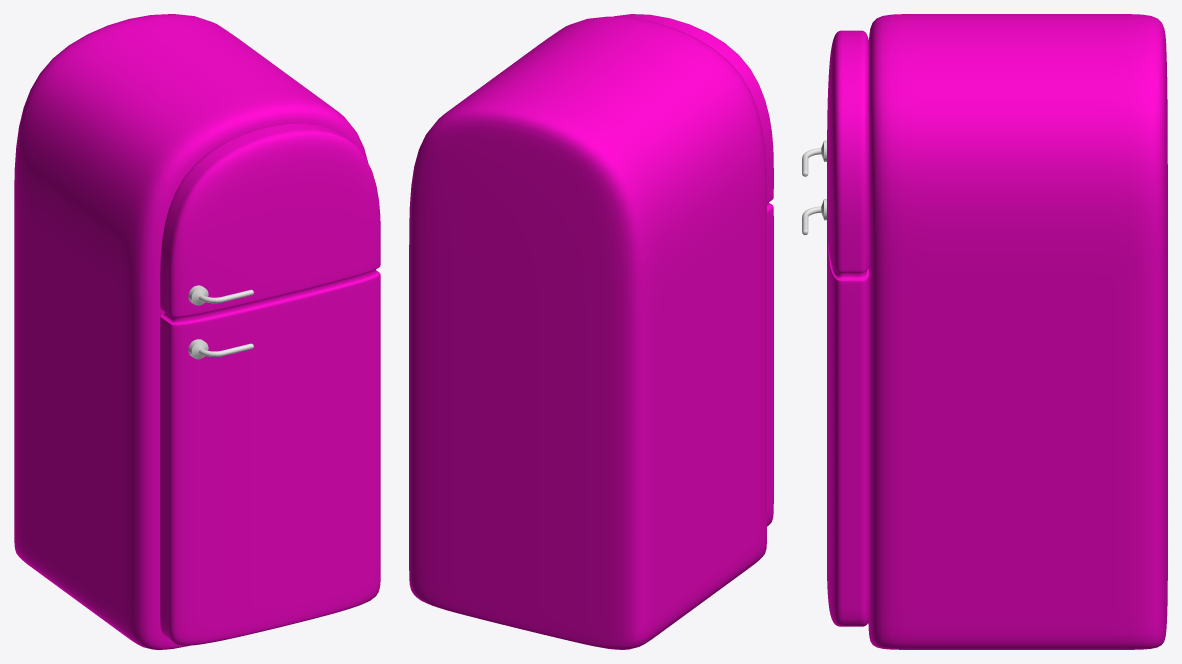
The model's file is Fridge.fbx.
3 views of the same model, side by side, from view 1: azimuth 30°, elevation 25°; view 2: azimuth 150°, elevation 25°; view 3: azimuth 270°, elevation 25° (orthographic). The views are drawn at different scales.
Parts seen in each view (by area): view 1: Cube.001, Cube, Circle.001, Circle; view 2: Cube, Cube.001; view 3: Cube, Cube.001.
Part boxes in pixels (x1=…): Cube.001: x1=160, y1=123, x2=380, y2=645; Cube: x1=14, y1=14, x2=368, y2=649; Circle.001: x1=188, y1=285, x2=253, y2=305; Circle: x1=188, y1=339, x2=253, y2=359; Cube: x1=409, y1=16, x2=766, y2=649; Cube.001: x1=613, y1=14, x2=773, y2=526; Cube: x1=868, y1=14, x2=1167, y2=649; Cube.001: x1=827, y1=30, x2=869, y2=626.
Size of the model in its own units: 200 by 411 by 243.
